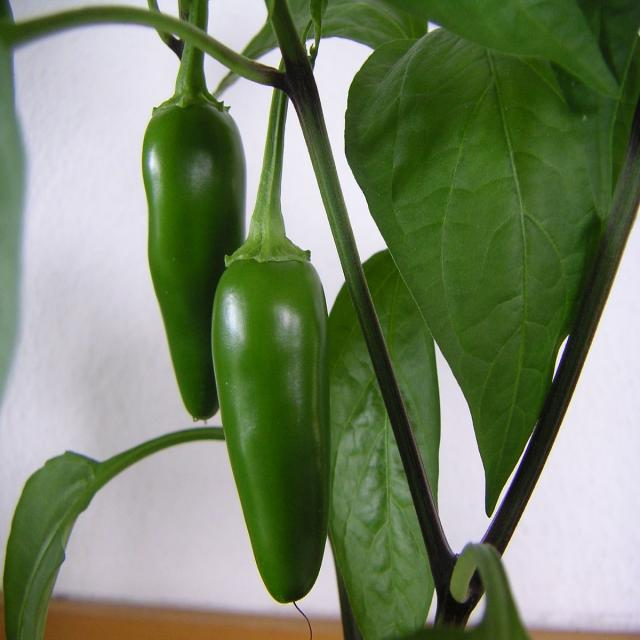aji: (141, 82, 243, 380)
